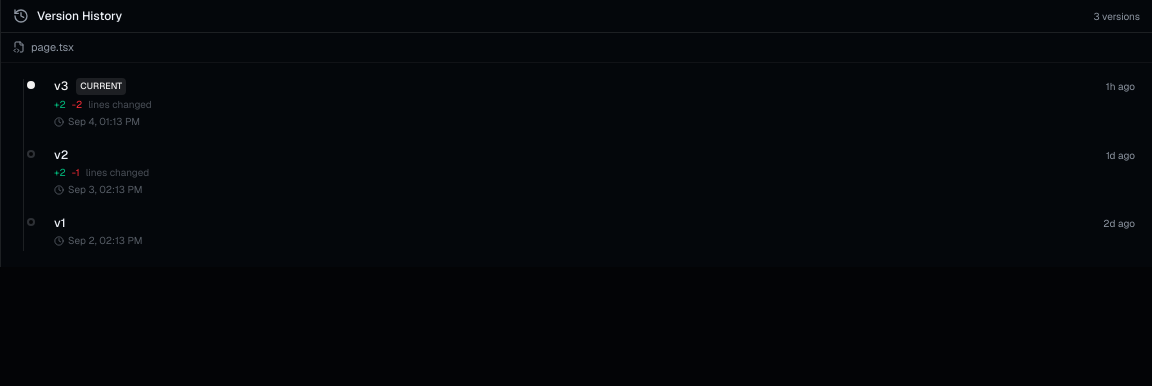
Test: VersionHistoryPanel › shows preview content when preview button is clicked
What coordinates should you click on to do the following:
click the text "v2"
I would click on:
 (61, 155)
Its box is [54,147,68,163].
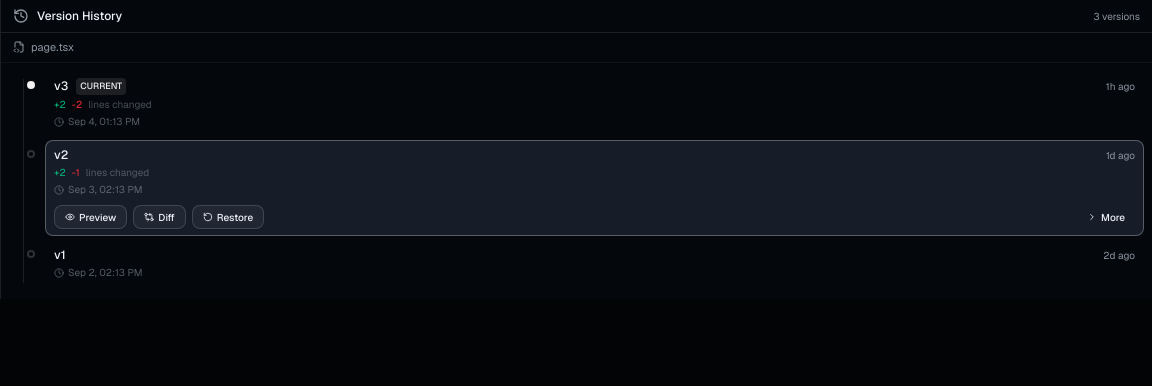
What coordinates should you click on to do the following:
click the button "Preview"
I would click on:
 (91, 217)
Its box is [54,205,127,229].
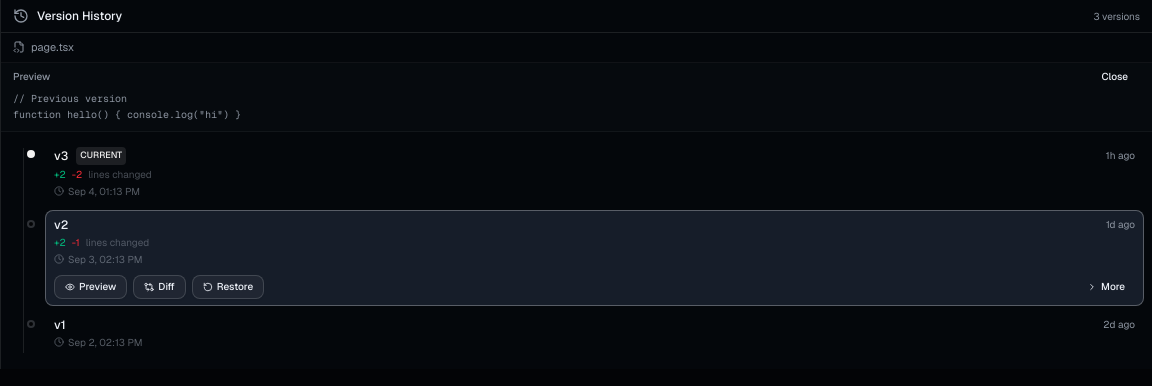
Check: the text "Preview" is shown, box [13,69,50,84]
Check: the text "// Previous version function hello() { console.log(\"hi\") }" is shown, box [13,92,241,121]
